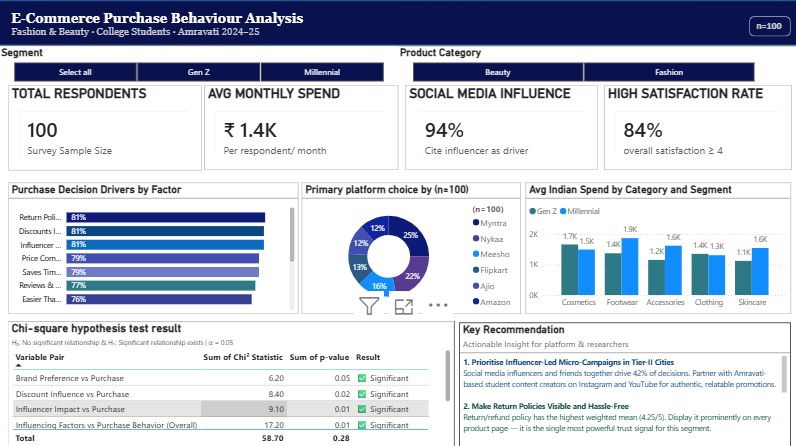

Layout of this report page (visuals, bound fields, positions):
{"tool":"powerbi","page":{"name":"Page 1","canvas":[1280,720],"ordinal":0},"visuals":[{"type":"shape","box":[0,0,1279.4,73.5],"z":0},{"type":"textbox","box":[16.2,11.8,927.9,61.8],"z":1000},{"type":"shape","box":[1202.9,26.5,66.2,32.4],"z":2000},{"type":"textbox","box":[1207.4,26.5,61.8,36.8],"z":3000},{"type":"slicer","title":"Segment","fields":{"Values":["Survey_Raw_Data.Segment"]},"box":[0,74.1,640.7,63],"z":4000},{"type":"slicer","title":"Product Category","fields":{"Values":["Survey_Raw_Data.category groupCustom"]},"box":[638.9,74.1,596.3,63],"z":5000},{"type":"cardVisual","title":"TOTAL RESPONDENTS","fields":{"Data":["Survey_Raw_Data.Total respondentsTotal Respondents"]},"box":[16.7,136.7,310,136.7],"z":6000},{"type":"cardVisual","title":"AVG MONTHLY SPEND","fields":{"Data":["Survey_Raw_Data.Average monthly spendAvg Monthly Spend"]},"box":[330,136,310,136],"z":7000},{"type":"cardVisual","title":"HIGH SATISFACTION RATE","fields":{"Data":["Survey_Raw_Data.High satisfaction rate (overall satisfaction ≥ 4)High Satisfaction %"]},"box":[970,136,300,136],"z":8000},{"type":"cardVisual","title":"SOCIAL MEDIA INFLUENCE","fields":{"Data":["Survey_Raw_Data.Social media influence % (influencer impact score ≥ 4)Social Media Influence %"]},"box":[652,136,308,136],"z":9000},{"type":"clusteredBarChart","fields":{"Category":["Likert_Scores.Factor"],"Y":["Likert_Scores.Driver Influence %"]},"box":[16.7,291.7,465,210],"z":10000},{"type":"donutChart","fields":{"Category":["Survey_Raw_Data.Platform_1st_Choice"],"Y":["CountNonNull(Survey_Raw_Data.Platform_1st_Choice)"]},"box":[485,291.7,350,210],"z":11000},{"type":"clusteredColumnChart","fields":{"Category":["Survey_Raw_Data.Product_Category_1st"],"Y":["Survey_Raw_Data.Average monthly spendAvg Monthly Spend"],"Series":["Survey_Raw_Data.Segment"]},"box":[843.3,291.7,425,210],"z":12000},{"type":"tableEx","title":"Chi-square hypothesis test result","fields":{"Values":["Chi_Square_Results.Variable Pair","Sum(Chi_Square_Results.Chi² Statistic)","Sum(Chi_Square_Results.p-value)","Chi_Square_Results.Result"]},"box":[16,514,714,206],"z":13000},{"type":"textbox","title":"Key Recommendation","box":[744,516,524,202],"z":14000}]}

Visuals, with their boxes in screenshot pixels (x1, y1, x2, y2), scaled from the page's 1280x720 canvas onto the 796x446 screenshot:
shape: [left=0, top=0, right=795, bottom=46]
textbox: [left=10, top=7, right=587, bottom=46]
shape: [left=748, top=16, right=789, bottom=36]
textbox: [left=751, top=16, right=789, bottom=39]
"Segment" slicer: [left=0, top=46, right=398, bottom=85]
"Product Category" slicer: [left=397, top=46, right=768, bottom=85]
"TOTAL RESPONDENTS" cardVisual: [left=10, top=85, right=203, bottom=169]
"AVG MONTHLY SPEND" cardVisual: [left=205, top=84, right=398, bottom=168]
"HIGH SATISFACTION RATE" cardVisual: [left=603, top=84, right=790, bottom=168]
"SOCIAL MEDIA INFLUENCE" cardVisual: [left=405, top=84, right=597, bottom=168]
clusteredBarChart - Likert_Scores.Factor x Likert_Scores.Driver Influence %: [left=10, top=181, right=300, bottom=311]
donutChart - Survey_Raw_Data.Platform_1st_Choice x CountNonNull(Survey_Raw_Data.Platform_1st_Choice): [left=302, top=181, right=519, bottom=311]
clusteredColumnChart - Survey_Raw_Data.Product_Category_1st x Survey_Raw_Data.Average monthly spendAvg Monthly Spend: [left=524, top=181, right=789, bottom=311]
"Chi-square hypothesis test result" tableEx: [left=10, top=318, right=454, bottom=445]
"Key Recommendation" textbox: [left=463, top=320, right=789, bottom=445]
